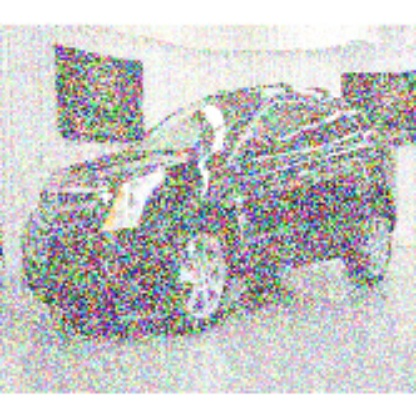Vehicle: (21, 81, 400, 338)
